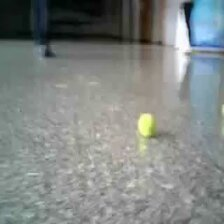tennis: (138, 113, 158, 137)
